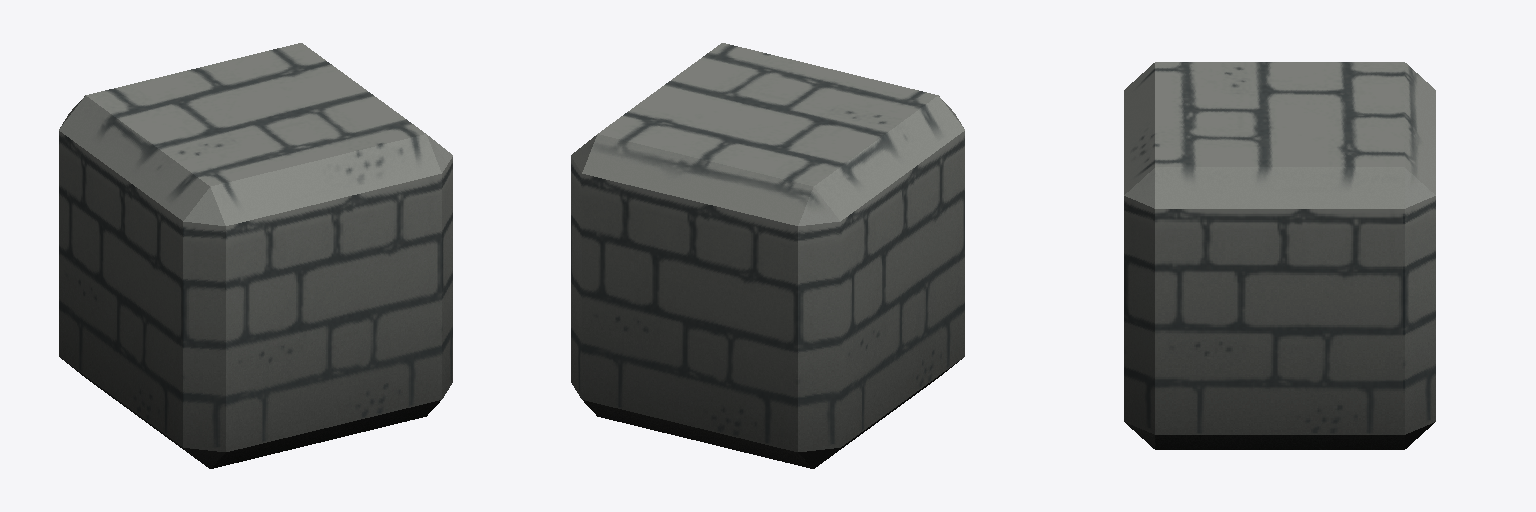
3 views of the same model, side by side, from view 1: azimuth 30°, elevation 25°; view 2: azimuth 150°, elevation 25°; view 3: azimuth 270°, elevation 25° (orthographic).
Visible parts, largest first — view 1: wall; view 2: wall; view 3: wall.
Boxes of the visible parts, box(x1,y1,x2,y2) form: wall: box(59, 43, 452, 468); wall: box(571, 43, 964, 468); wall: box(1124, 62, 1435, 449).
Size of the model in its own units: 1 by 1 by 1.
Materials: 1 (1 with a texture image).